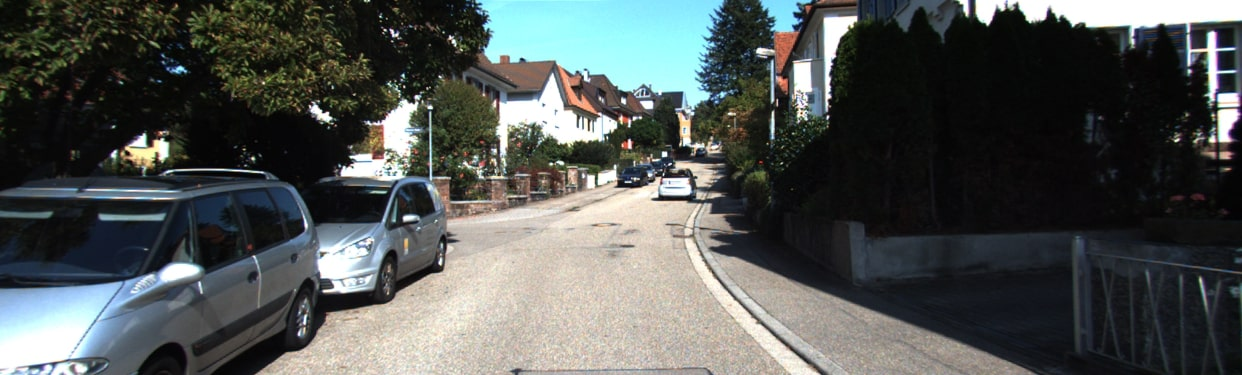car: (3, 167, 316, 367), (325, 172, 462, 306), (655, 167, 699, 200), (613, 166, 645, 192)
